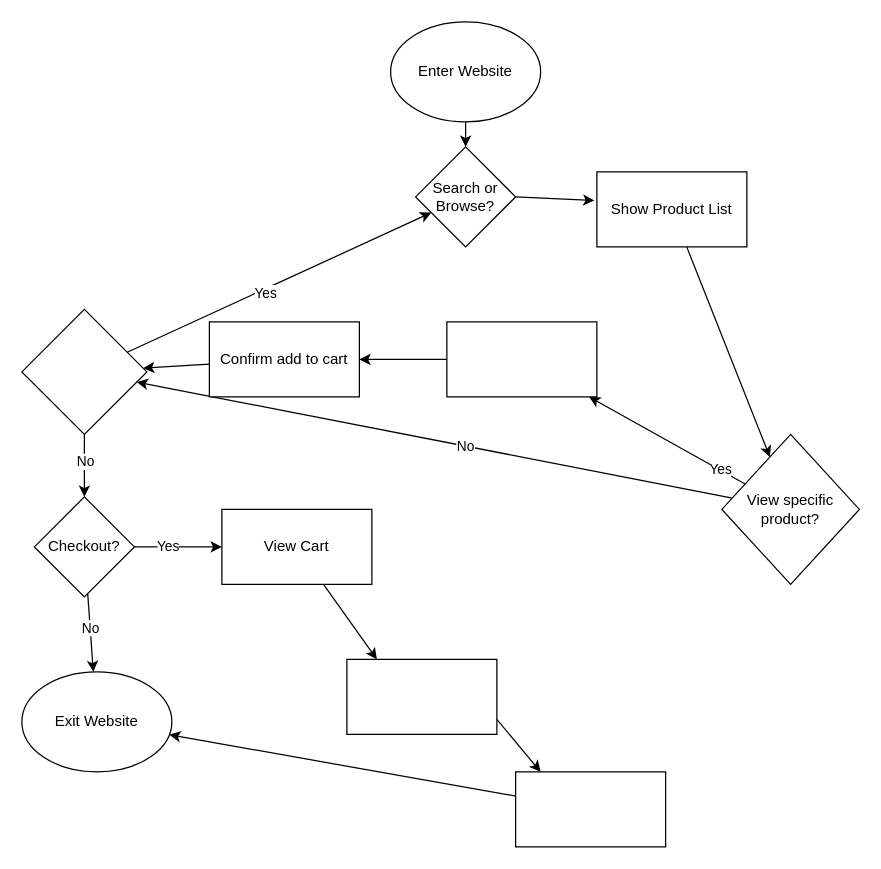
This 881x869 diagram has some shape labels left out. Each missing label, with the centre of its shape:
"Confirm order and email" goes at point (590, 809).
"Continue Shopping?" goes at point (84, 371).
"Payment Information" goes at point (421, 696).
"Show Product Page" goes at point (521, 359).
